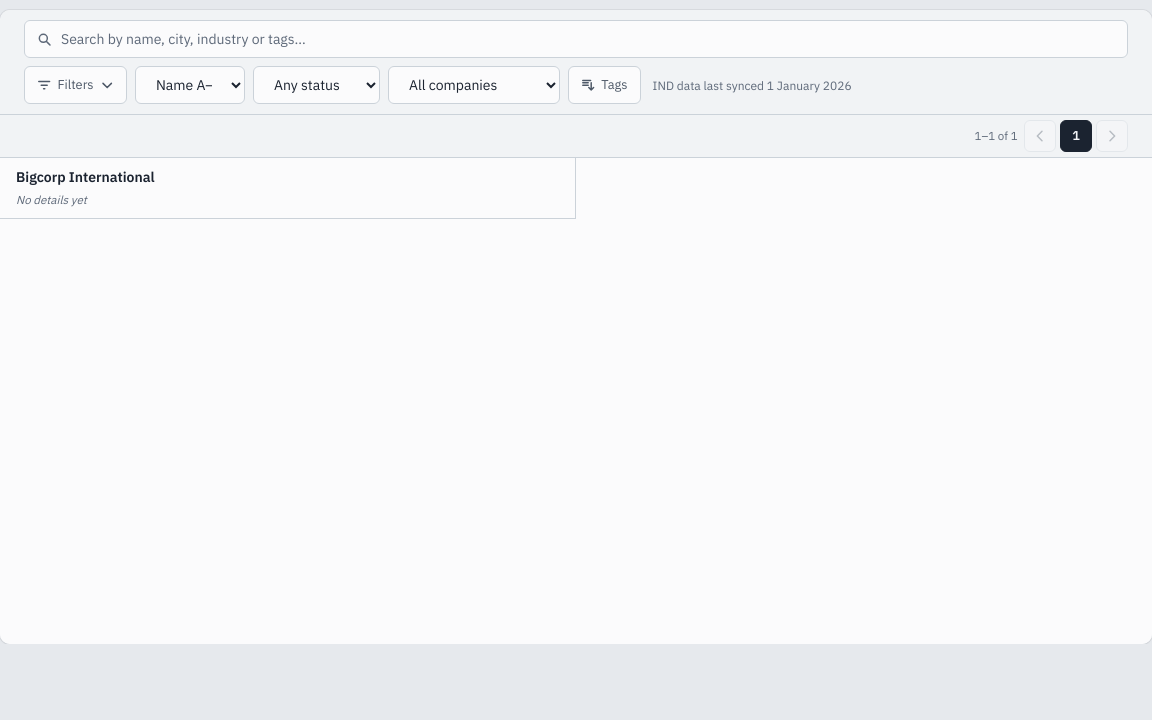
Test: CompaniesView – detail modal › clicking a tile opens the CompanyDetailModal
Step 1. Click the element with class "company-tile" → click(288, 188), box [0,158,576,219]
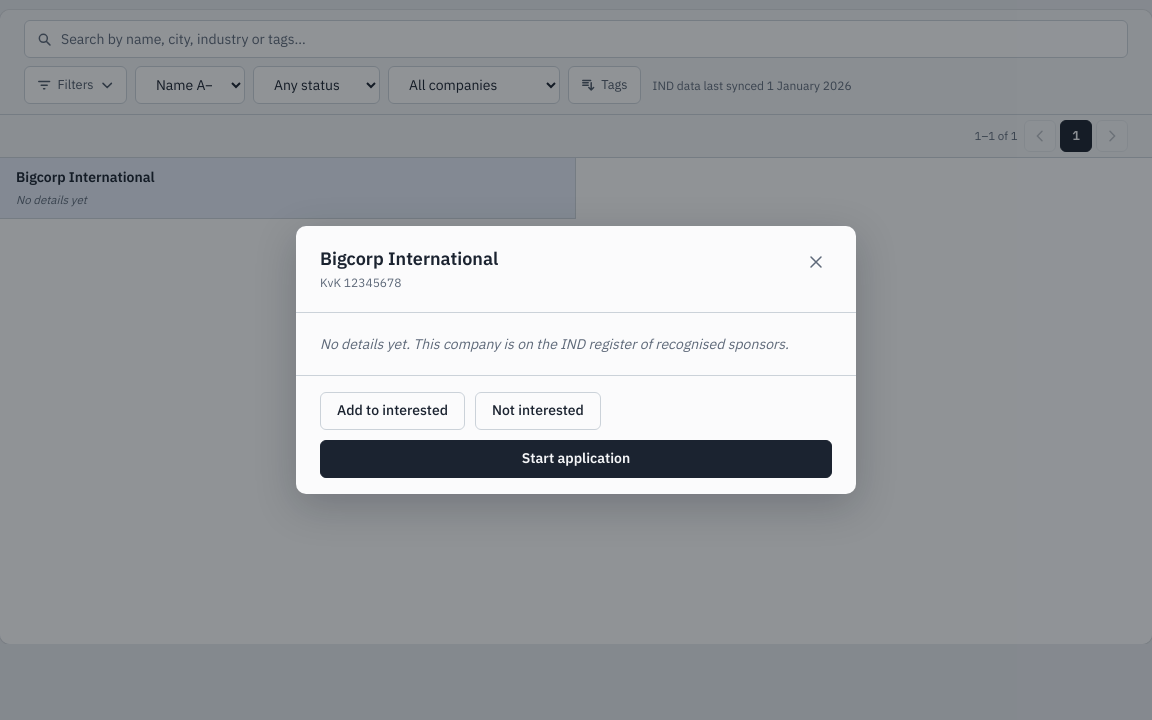
Result: the element that starts with "Bigcorp International" is shown
